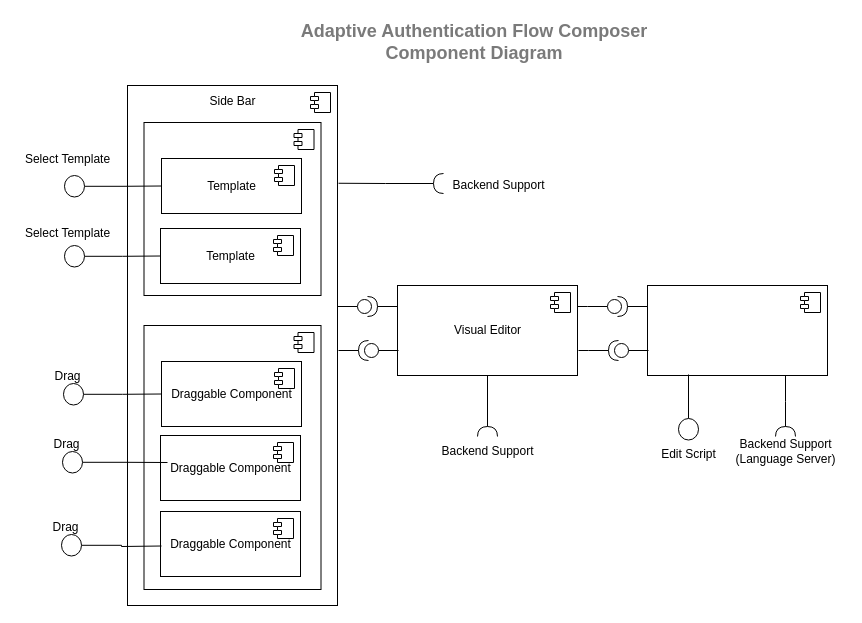
Some shapes in this 862 by 623 pixel diagram are drawn without their labels. Each missing label, with the box of its shape:
MFA options: (143, 324, 321, 590)
Script Editor: (646, 284, 828, 376)
Templates: (143, 122, 321, 296)
